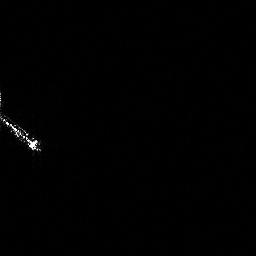ship: (1, 107, 46, 159)
